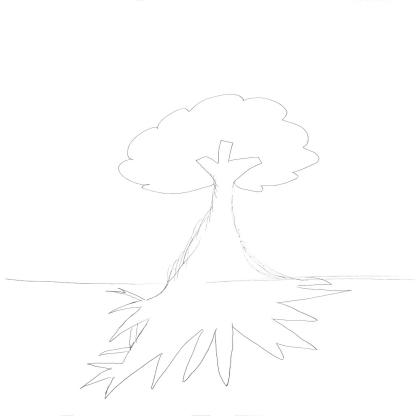branch_cut: (195, 137, 266, 180)
crown_cloud: (115, 89, 322, 195)
root_upside: (75, 266, 365, 398)
trunk_reflex: (182, 204, 262, 260)
